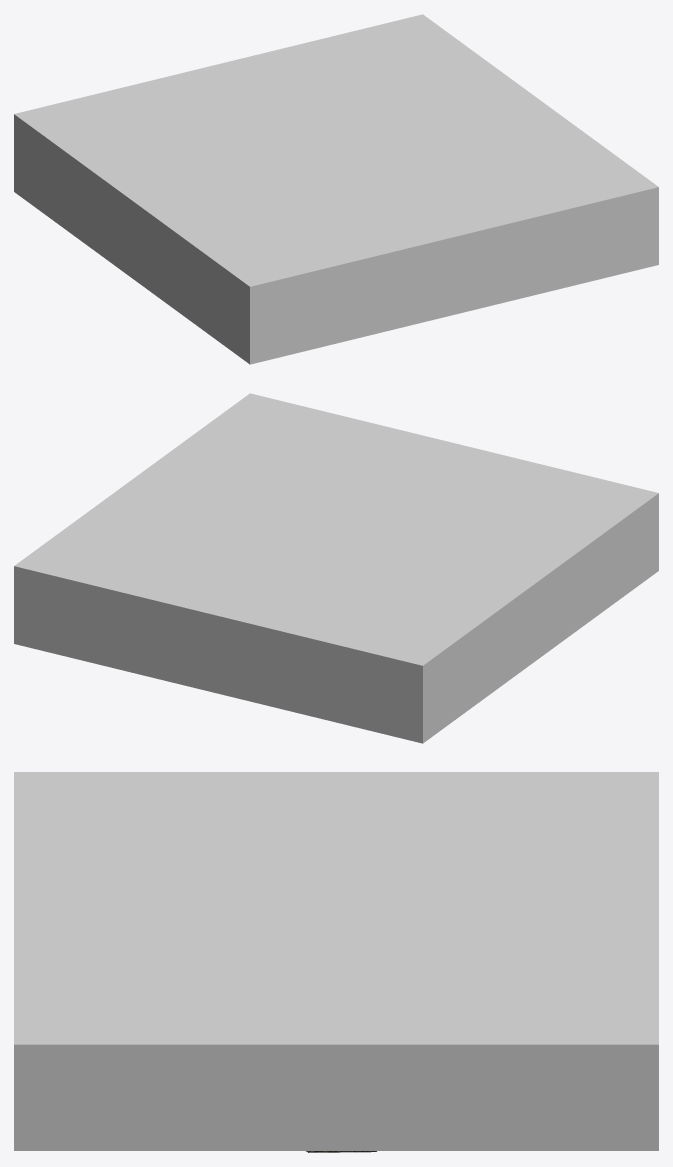
File: rock_pile_opened.glb
3 renders of one model, top to bottom at view 1: azimuth 30°, elevation 25°; view 2: azimuth 150°, elevation 25°; view 3: azimuth 270°, elevation 25°, orthographic. The views are drawn at different scales.
Parts seen in each view (by area): view 1: col_click; view 2: col_click; view 3: col_click.
Boxes of the visible parts, <box> form: col_click: <box>14,14,658,364</box>; col_click: <box>14,393,658,743</box>; col_click: <box>14,772,658,1150</box>.
Bounding box in the file's own units: 2.2 × 0.5365 × 2.2.
Materials: 4 (3 with a texture image).
